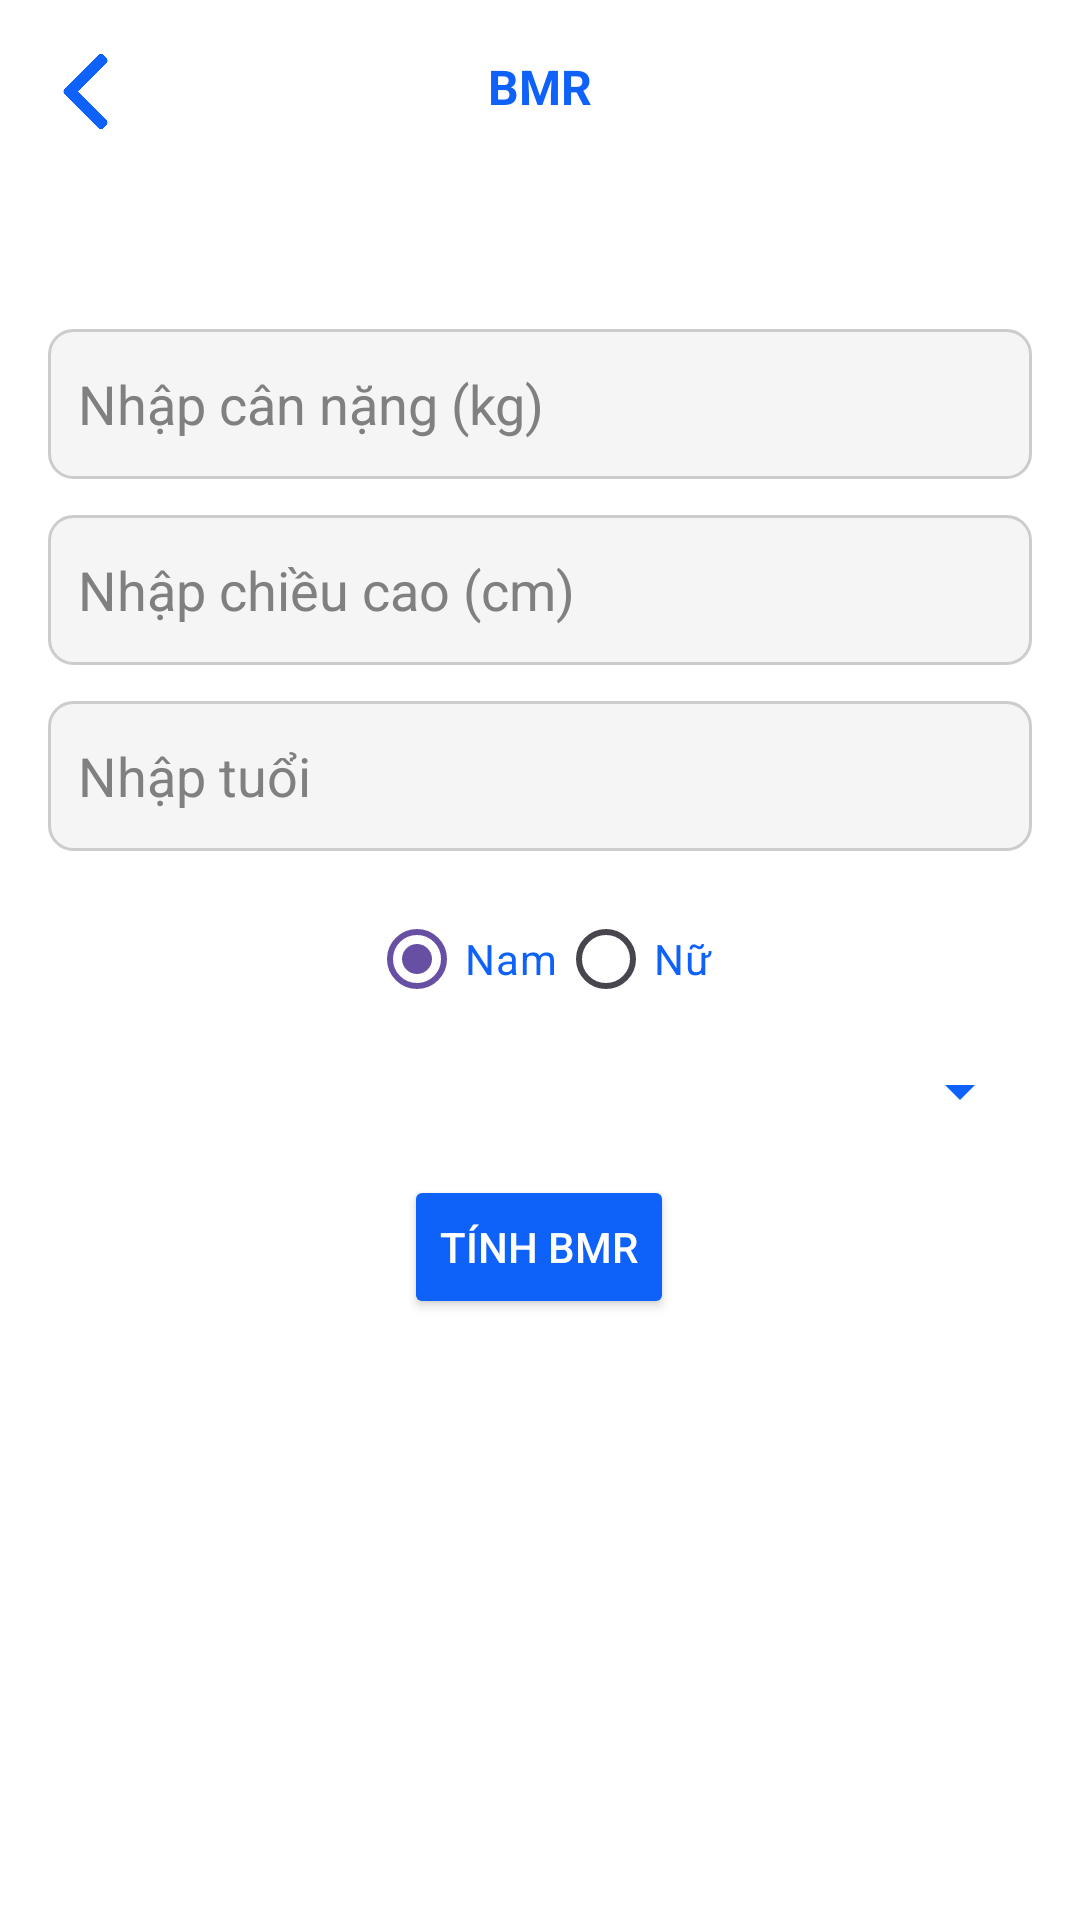

Icon bounding boxes for this 1080×1920 phone screenshot, format (x1, y1, x2, y2):
left arrow: (63, 54, 108, 129)
